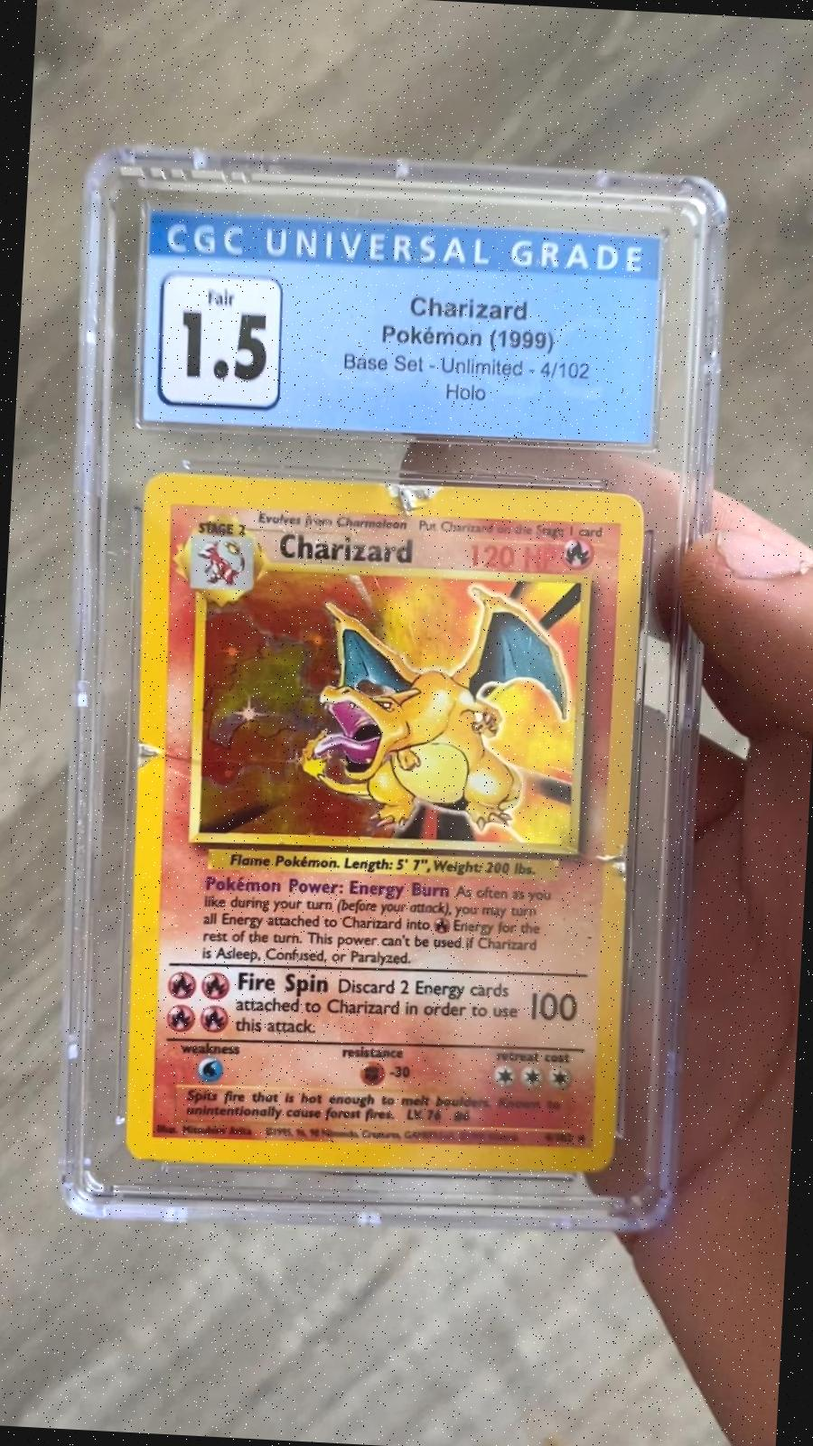card-2UtV: (125, 471, 645, 1174)
